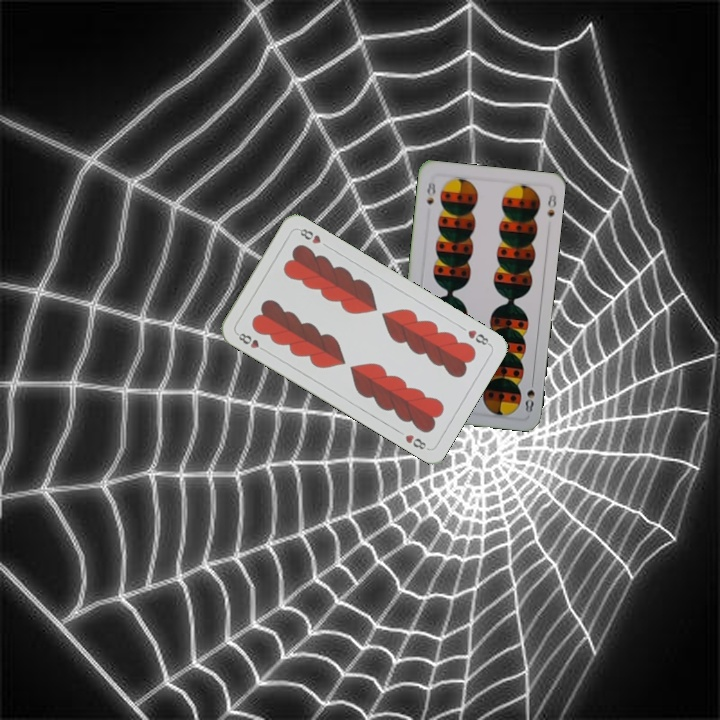H8: (232, 329, 269, 355), (464, 325, 493, 348)
S8: (521, 375, 537, 415), (422, 177, 438, 207)
